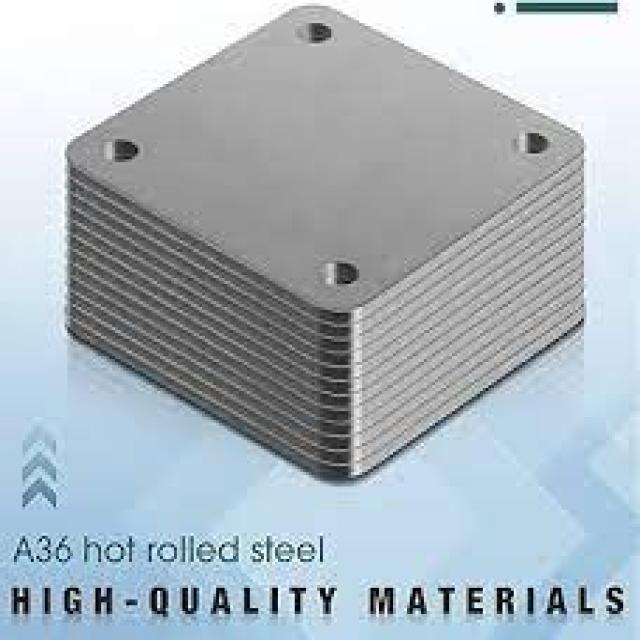holes: (312, 254, 360, 291), (292, 15, 333, 53), (107, 136, 138, 162), (516, 130, 547, 153)
